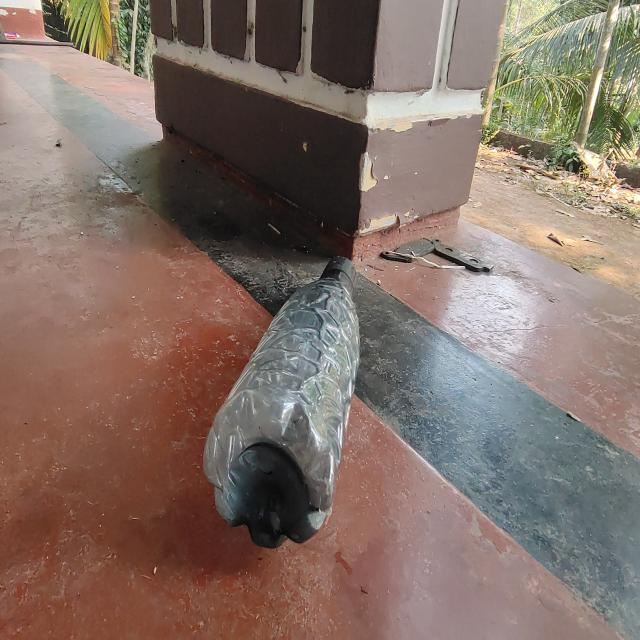plastic: (203, 252, 364, 552)
